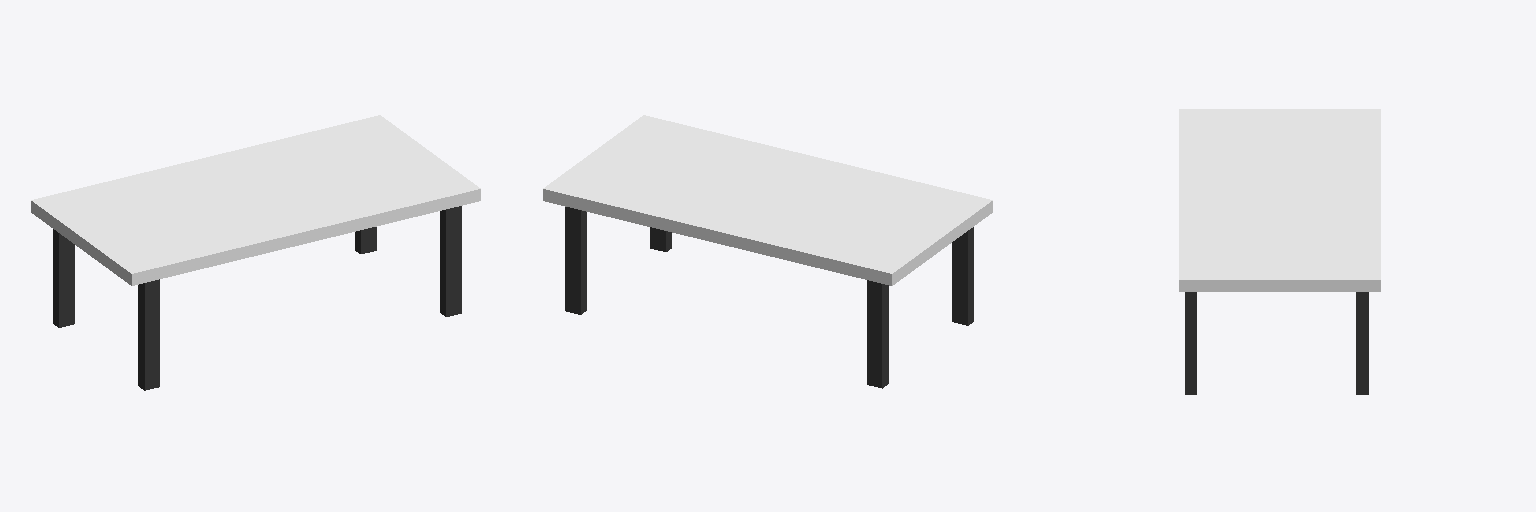
The model's file is tafel.obj.
3 views of the same model, side by side, from view 1: azimuth 30°, elevation 25°; view 2: azimuth 150°, elevation 25°; view 3: azimuth 270°, elevation 25° (orthographic).
Parts seen in each view (by area): view 1: Cube, Cube.003, Cube.001, Cube.002; view 2: Cube, Cube.004, Cube.002, Cube.001; view 3: Cube, Cube.004, Cube.003.
Part boxes in pixels (left/top/right/bottom): Cube: left=31, top=115, right=480, bottom=285; Cube.003: left=440, top=206, right=461, bottom=316; Cube.001: left=138, top=279, right=159, bottom=390; Cube.002: left=53, top=229, right=74, bottom=327; Cube: left=543, top=115, right=992, bottom=285; Cube.004: left=565, top=207, right=586, bottom=314; Cube.002: left=867, top=280, right=888, bottom=388; Cube.001: left=952, top=227, right=973, bottom=325; Cube: left=1179, top=109, right=1380, bottom=291; Cube.004: left=1356, top=292, right=1368, bottom=394; Cube.003: left=1185, top=292, right=1196, bottom=394.
Size of the model in its own units: 6.6 by 2.22 by 3.3.